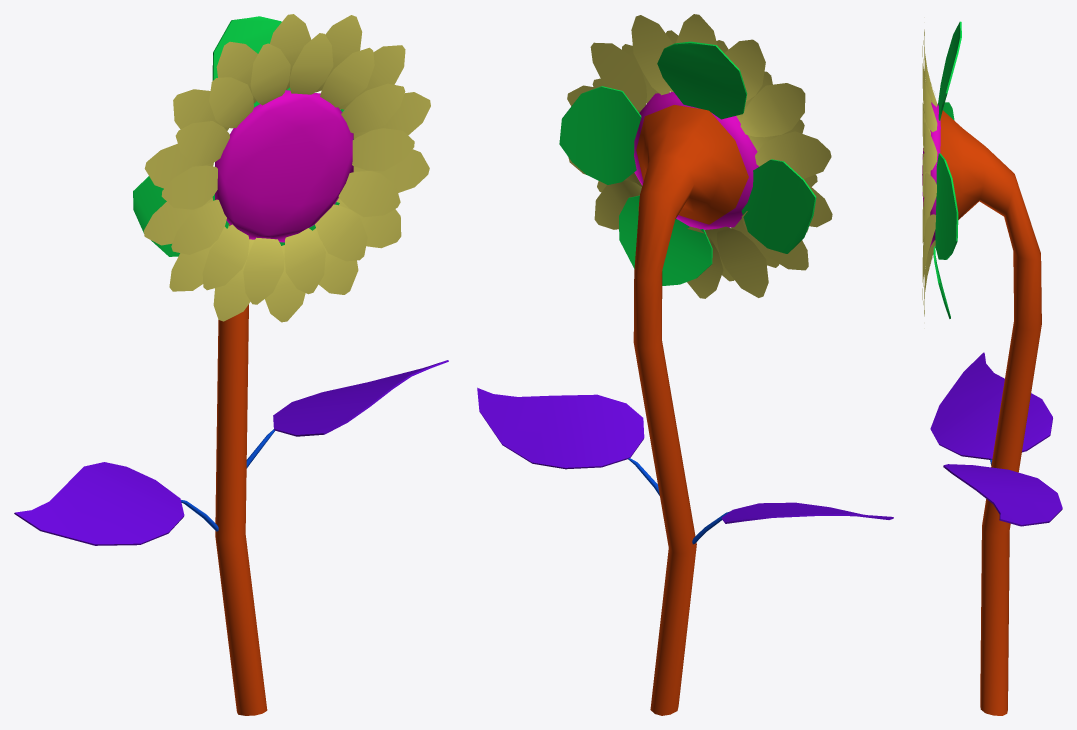
Rendered from Sunflower.fbx.
3 views of the same model, side by side, from view 1: azimuth 30°, elevation 25°; view 2: azimuth 150°, elevation 25°; view 3: azimuth 270°, elevation 25° (orthographic). The views are drawn at different scales.
Parts seen in each view (by area): view 1: Sunflower; view 2: Sunflower; view 3: Sunflower.
Part boxes in pixels (x1,y1,x2,y2): Sunflower: [14, 14, 448, 715]; Sunflower: [477, 14, 893, 715]; Sunflower: [922, 21, 1062, 715].
Size of the model in its own units: 266 by 417 by 77.91.
